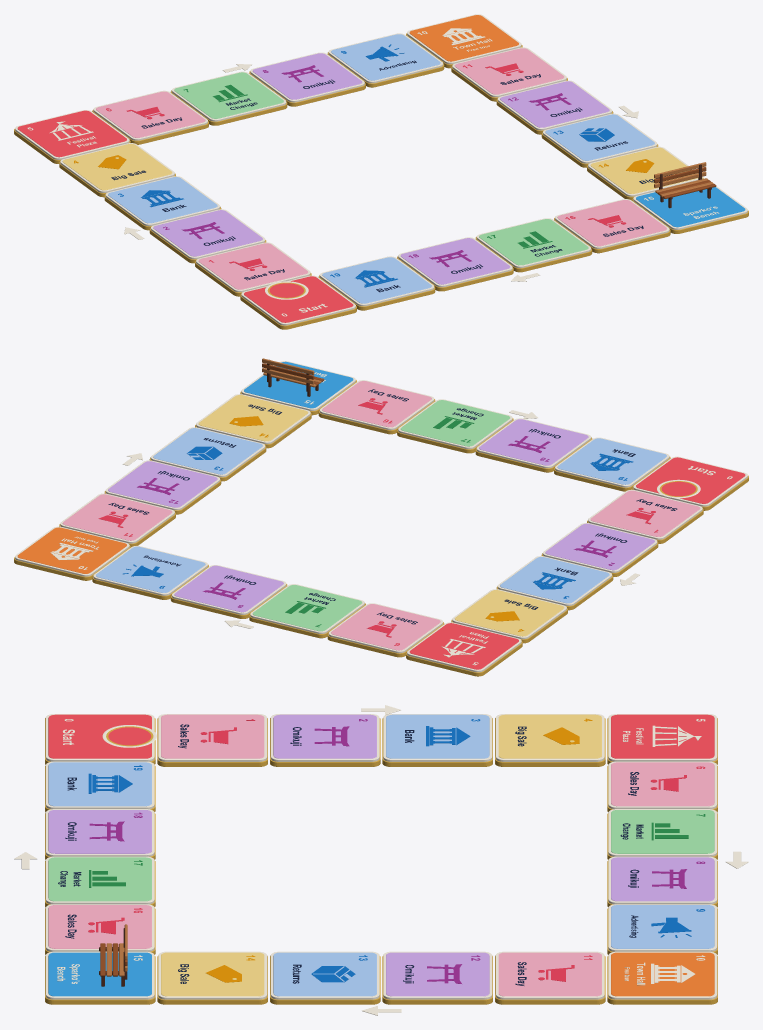
File: yatai-reference-board.glb
3 views of the same model, one above another, from view 1: azimuth 30°, elevation 25°; view 2: azimuth 150°, elevation 25°; view 3: azimuth 270°, elevation 25° (orthographic). The views are drawn at different scales.
Visible parts, largest first — view 1: Reference board Cream porcelain rim, Reference board Sales strawberry pink, Reference board Fortune lilac, Reference board Bank sky blue, Reference board Golden tile foundation, Reference board Start and festival coral, Reference board Market fresh mint, Reference board Sale butter yellow, Reference board Town hall tangerine, Reference board Sparko bench blue, Reference board Board midnight lettering, Reference board Bank cobalt icon (+6 smaller); view 2: Reference board Cream porcelain rim, Reference board Sales strawberry pink, Reference board Fortune lilac, Reference board Bank sky blue, Reference board Golden tile foundation, Reference board Start and festival coral, Reference board Market fresh mint, Reference board Sale butter yellow, Reference board Town hall tangerine, Reference board Sparko bench blue, Reference board Board midnight lettering, Reference board Bank cobalt icon (+5 smaller); view 3: Reference board Cream porcelain rim, Reference board Fortune lilac, Reference board Sales strawberry pink, Reference board Bank sky blue, Reference board Golden tile foundation, Reference board Start and festival coral, Reference board Market fresh mint, Reference board Sale butter yellow, Reference board Town hall tangerine, Reference board Sparko bench blue, Reference board Board midnight lettering, Reference board Bank cobalt icon (+5 smaller).
Part boxes in pixels (bbox=[...]): Reference board Cream porcelain rim: bbox=[15, 14, 747, 325]; Reference board Sales strawberry pink: bbox=[96, 48, 666, 289]; Reference board Fortune lilac: bbox=[153, 53, 609, 284]; Reference board Bank sky blue: bbox=[108, 34, 654, 303]; Reference board Golden tile foundation: bbox=[14, 33, 748, 329]; Reference board Start and festival coral: bbox=[17, 110, 353, 322]; Reference board Market fresh mint: bbox=[174, 72, 588, 265]; Reference board Sale butter yellow: bbox=[62, 144, 697, 193]; Reference board Town hall tangerine: bbox=[409, 15, 518, 61]; Reference board Sparko bench blue: bbox=[636, 187, 745, 227]; Reference board Board midnight lettering: bbox=[111, 60, 671, 292]; Reference board Bank cobalt icon: bbox=[118, 44, 614, 287]; Reference board Cream porcelain rim: bbox=[15, 361, 747, 672]; Reference board Sales strawberry pink: bbox=[62, 381, 700, 650]; Reference board Fortune lilac: bbox=[108, 419, 654, 612]; Reference board Bank sky blue: bbox=[96, 428, 666, 603]; Reference board Golden tile foundation: bbox=[14, 380, 748, 676]; Reference board Start and festival coral: bbox=[409, 457, 745, 669]; Reference board Market fresh mint: bbox=[252, 400, 510, 631]; Reference board Sale butter yellow: bbox=[198, 395, 564, 636]; Reference board Town hall tangerine: bbox=[17, 527, 126, 573]; Reference board Sparko bench blue: bbox=[244, 361, 353, 408]; Reference board Board midnight lettering: bbox=[108, 389, 677, 624]; Reference board Bank cobalt icon: bbox=[123, 446, 633, 598]; Reference board Cream porcelain rim: bbox=[14, 705, 748, 1015]; Reference board Fortune lilac: bbox=[48, 714, 714, 996]; Reference board Sales strawberry pink: bbox=[48, 714, 714, 996]; Reference board Bank sky blue: bbox=[48, 714, 714, 996]; Reference board Golden tile foundation: bbox=[45, 718, 717, 1004]; Reference board Start and festival coral: bbox=[48, 714, 714, 758]; Reference board Market fresh mint: bbox=[48, 810, 714, 901]; Reference board Sale butter yellow: bbox=[161, 714, 601, 996]; Reference board Town hall tangerine: bbox=[611, 952, 714, 996]; Reference board Sparko bench blue: bbox=[48, 952, 151, 996]; Reference board Board midnight lettering: bbox=[58, 724, 643, 985]; Reference board Bank cobalt icon: bbox=[88, 719, 705, 982].
Size of the model in its own units: 26.13 by 1.63 by 26.13.
